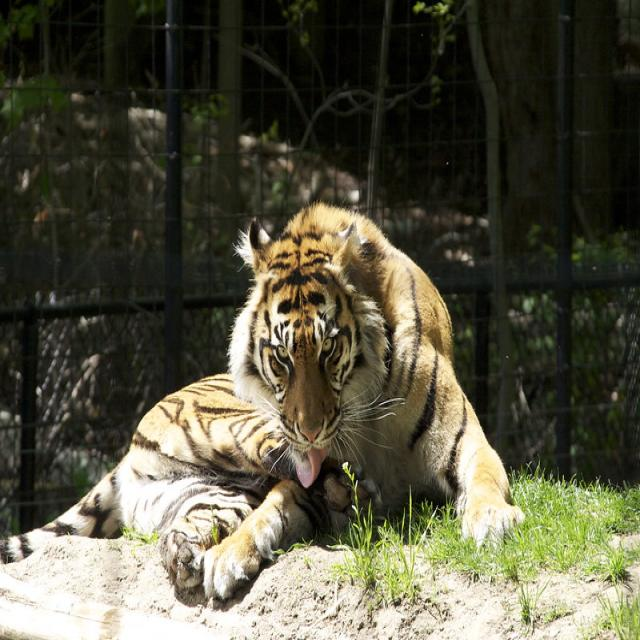Tiger: (0, 196, 528, 597)
